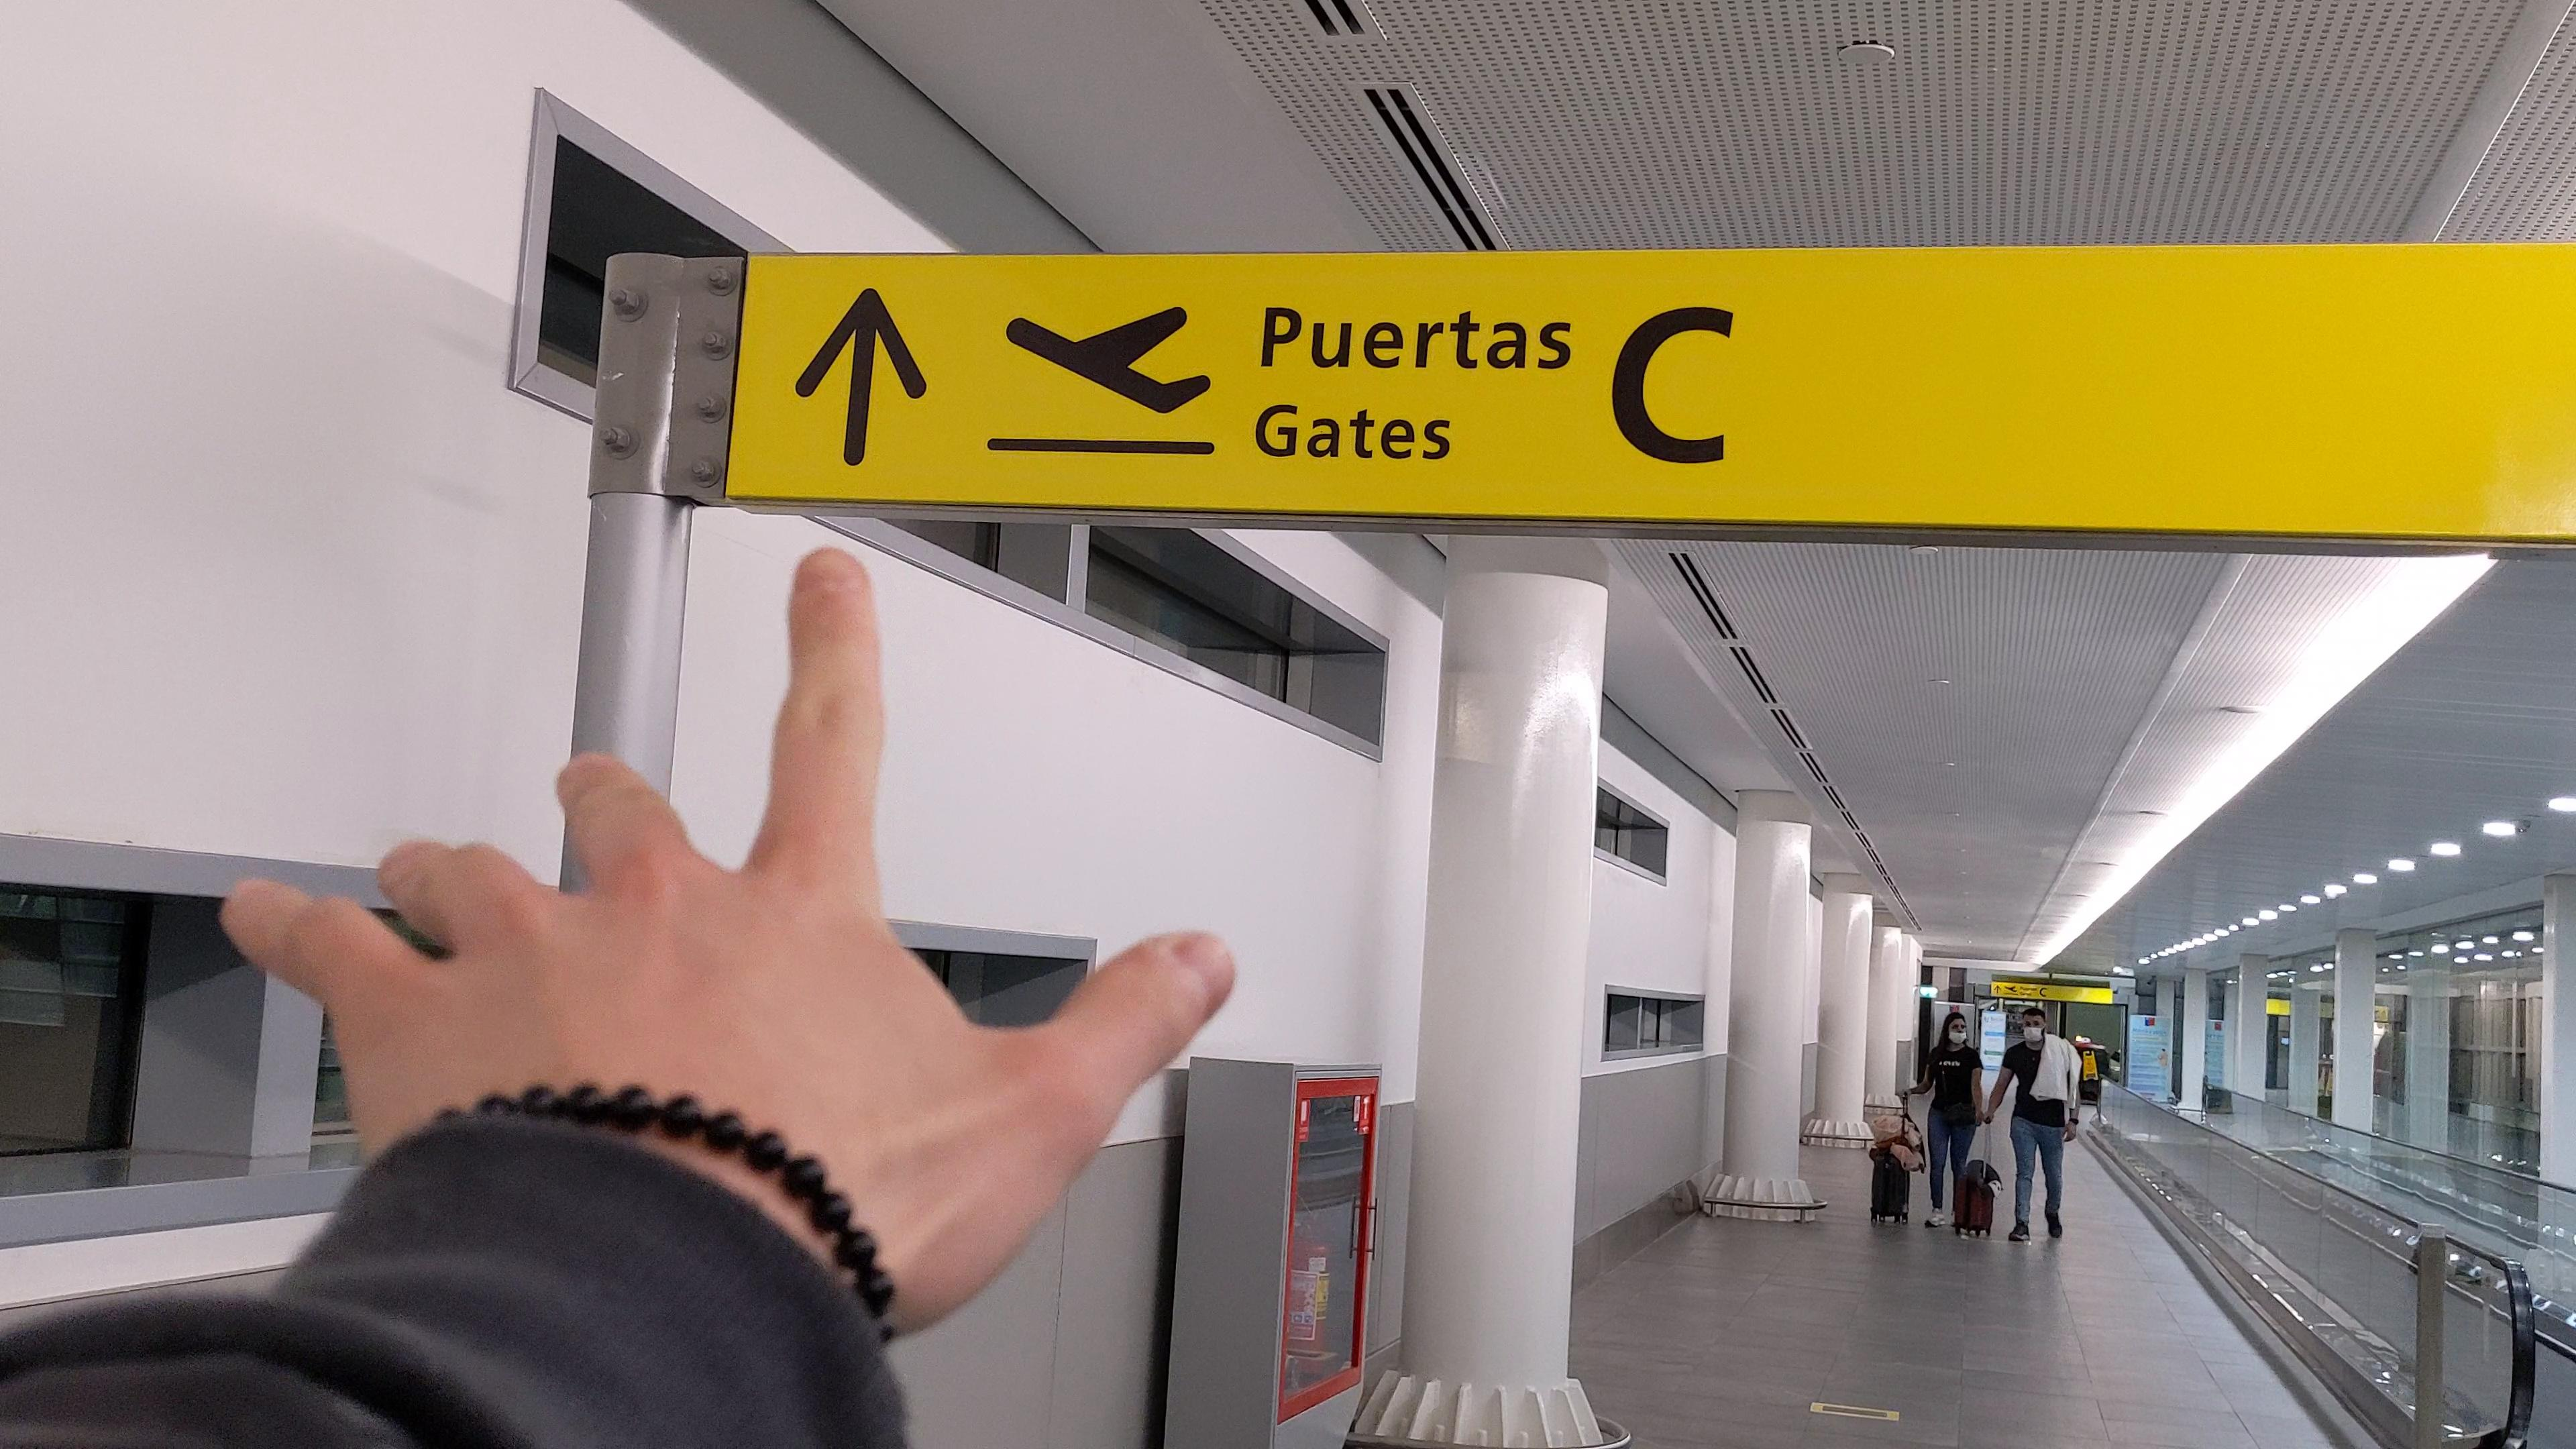airplane symbol: (1000, 299, 1217, 421), (2005, 985, 2019, 993)
thin up arrow: (791, 285, 932, 471), (1994, 984, 2001, 994)
